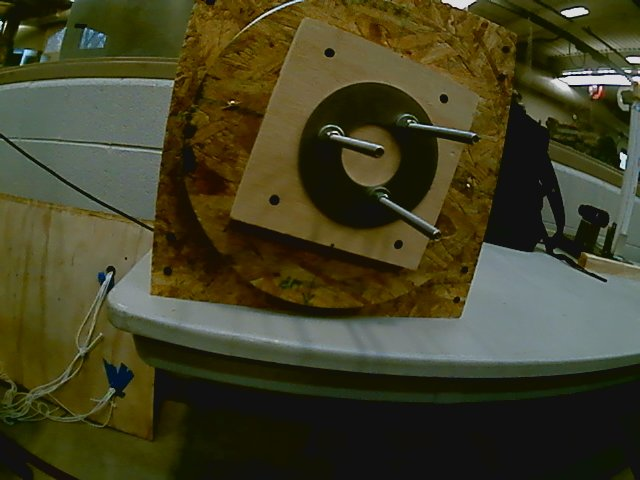bolt: (372, 143, 386, 160), (468, 132, 480, 146), (431, 229, 443, 242)
